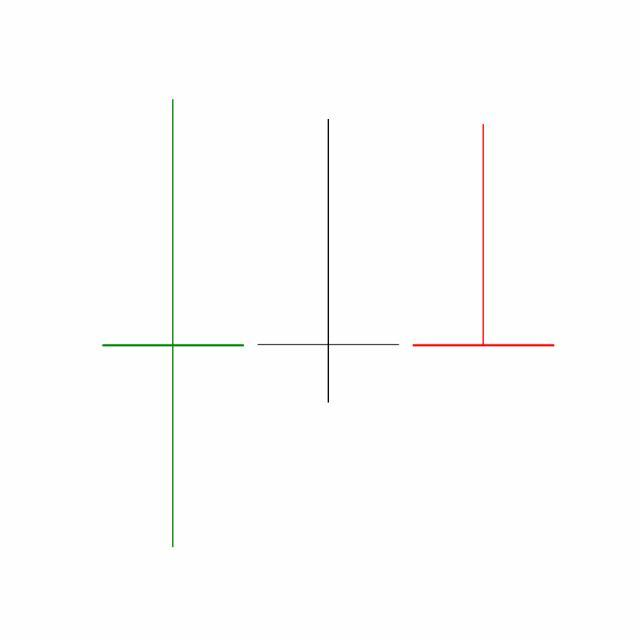Gravestone Doji: (406, 122, 562, 349)
